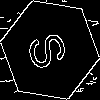S: (25, 25, 77, 73)
